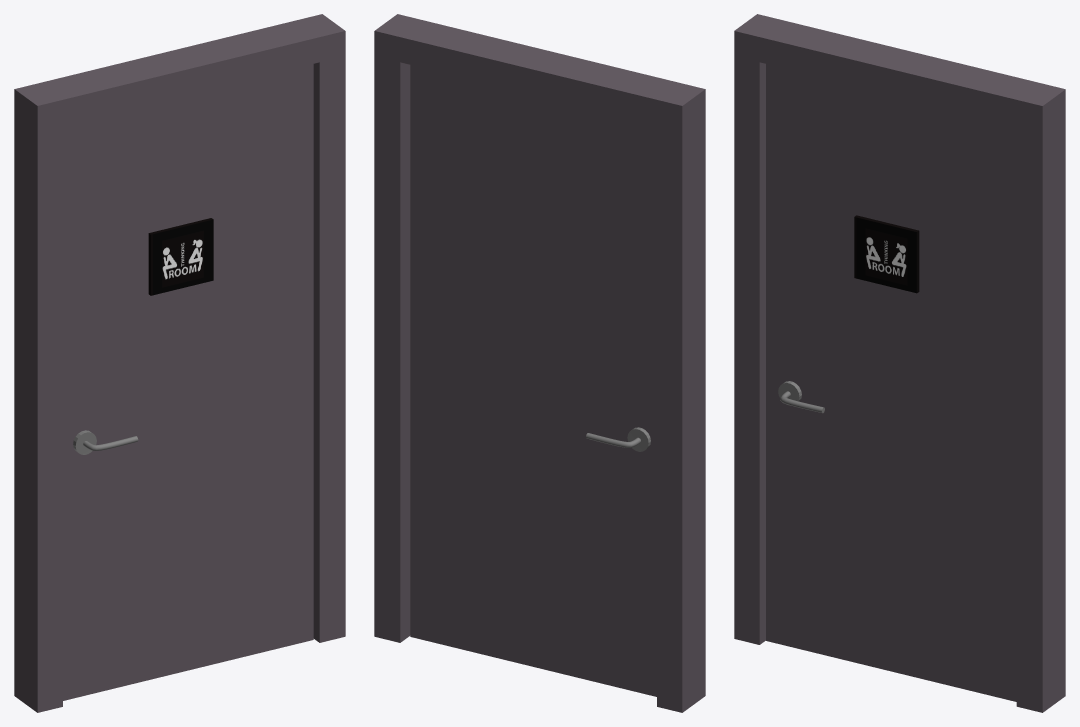
Rendered from Door 1.fbx.
3 views of the same model, side by side, from view 1: azimuth 30°, elevation 25°; view 2: azimuth 150°, elevation 25°; view 3: azimuth 330°, elevation 25° (orthographic).
Visible parts, largest first — view 1: Door 1, door frame 1; view 2: Door 1, door frame 1; view 3: Door 1, door frame 1.
Boxes of the visible parts, x1,y1,x2,y2 form: Door 1: [63, 64, 313, 700]; door frame 1: [14, 14, 345, 712]; Door 1: [410, 65, 656, 696]; door frame 1: [374, 14, 705, 712]; Door 1: [766, 64, 1016, 701]; door frame 1: [734, 14, 1065, 712].
Bounding box in the file's own units: 117 × 221 × 21.34.
3 materials, 2 textured.
